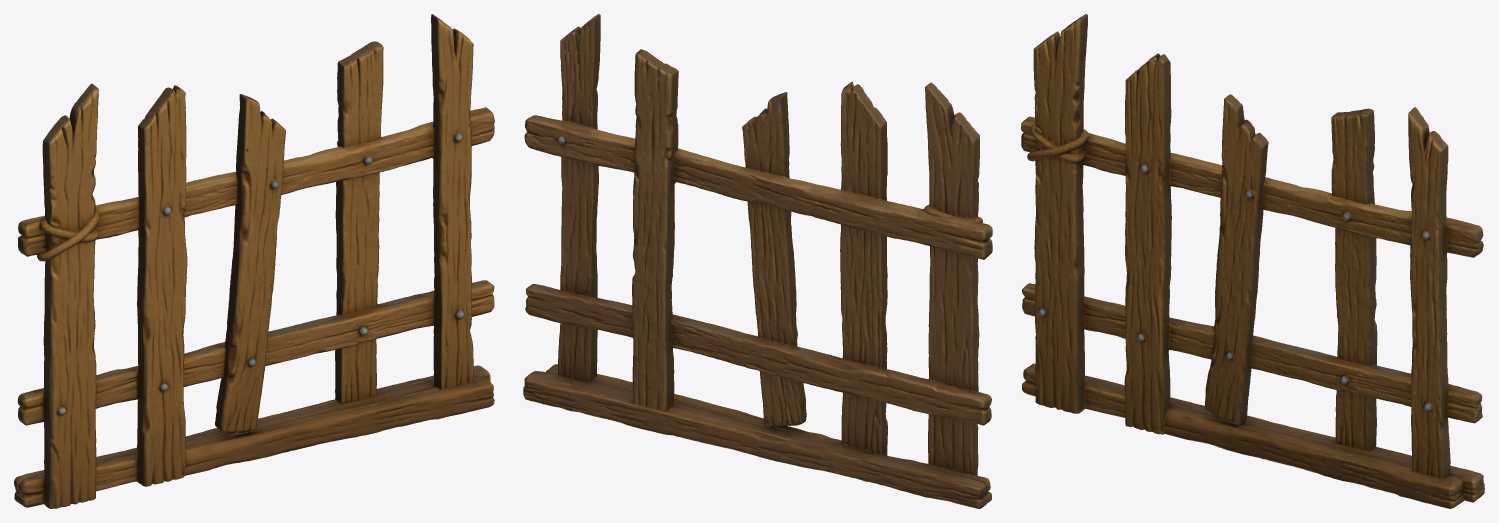
File: valla.glb
3 renders of one model, left to right at view 1: azimuth 30°, elevation 25°; view 2: azimuth 150°, elevation 25°; view 3: azimuth 330°, elevation 25°, orthographic. The views are drawn at different scales.
Visible parts, largest first — view 1: valla rustica; view 2: valla rustica; view 3: valla rustica.
Boxes of the visible parts, x1,y1,x2,y2 form: valla rustica: (14, 14, 494, 508); valla rustica: (523, 14, 992, 508); valla rustica: (1021, 14, 1484, 508).
Bounding box in the file's own units: 0.0952 × 0.079 × 0.00889.
Materials: 1 (1 with a texture image).
